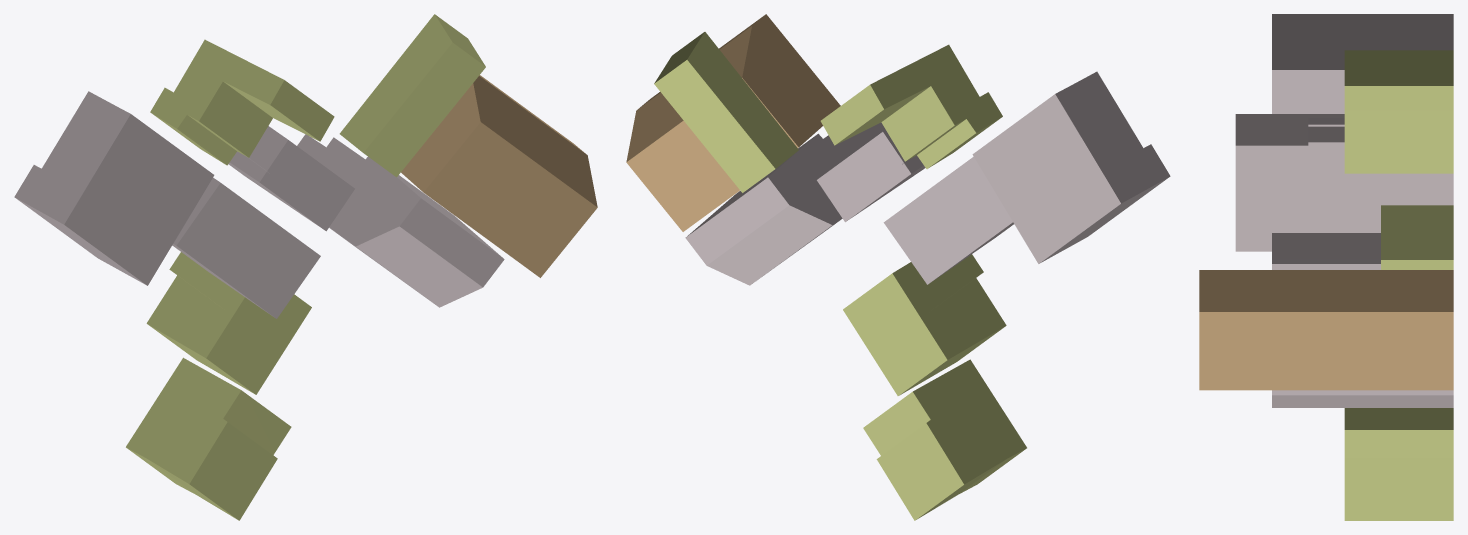
The picture shows the model from 3 angles, left to right: view 1: azimuth 30°, elevation 25°; view 2: azimuth 150°, elevation 25°; view 3: azimuth 270°, elevation 25°; orthographic projection. The views are drawn at different scales.
Visible parts, largest first — view 1: 0_1_3_2_2_1_2_1_3; view 2: 0_1_3_2_2_1_2_1_3; view 3: 0_1_3_2_2_1_2_1_3.
Boxes of the visible parts, x1,y1,x2,y2 form: 0_1_3_2_2_1_2_1_3: (14,14,597,520); 0_1_3_2_2_1_2_1_3: (626,14,1170,520); 0_1_3_2_2_1_2_1_3: (1199,14,1453,520).
Bounding box in the file's own units: 48.3 × 43.64 × 21.
